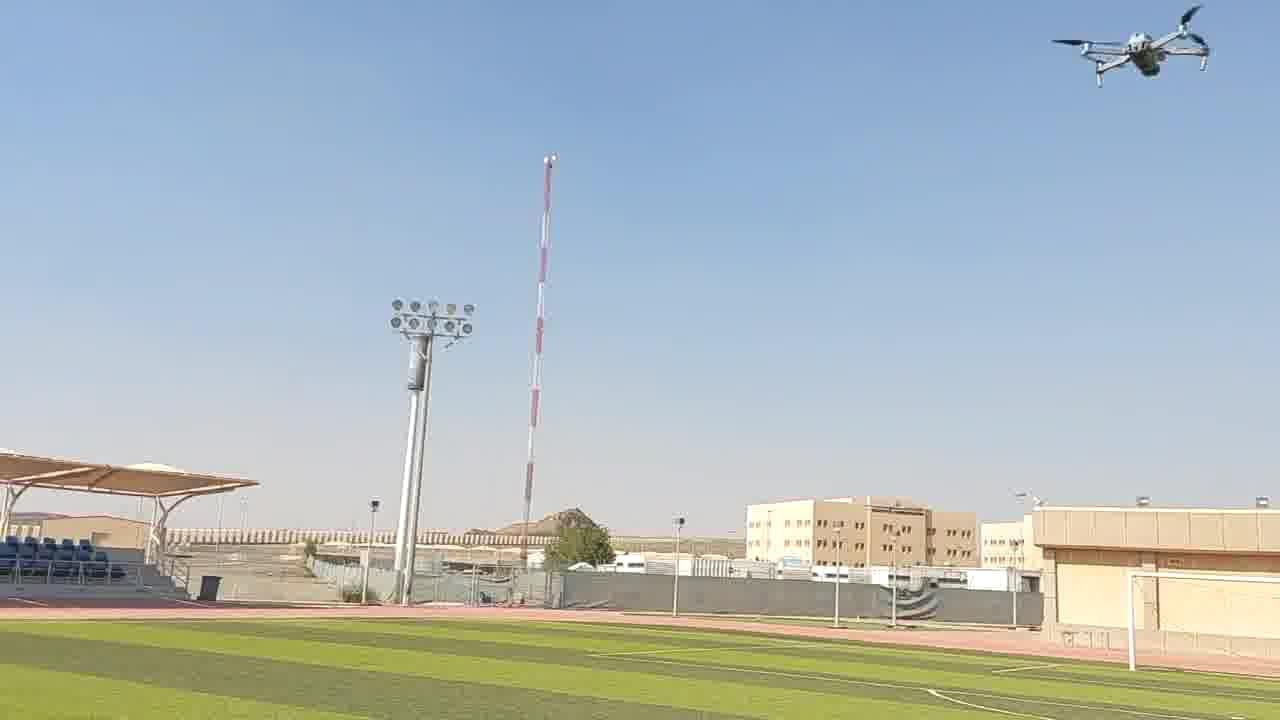drone: (1047, 2, 1212, 88)
